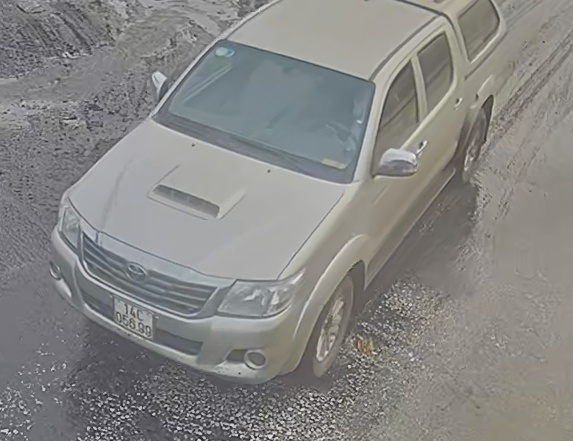vehicle plate: (106, 289, 156, 342)
